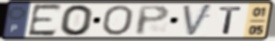E: (27, 3, 65, 38)
O: (59, 3, 95, 37), (100, 5, 135, 37)
P: (135, 4, 172, 37)
T: (218, 6, 244, 35)
V: (182, 3, 215, 38)
